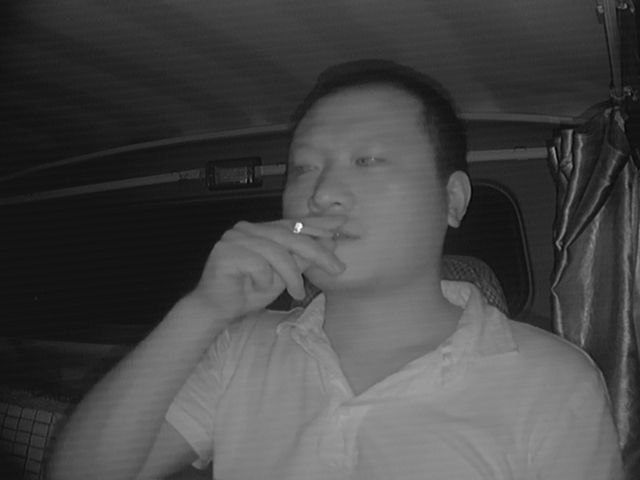hand: (224, 205, 338, 316)
